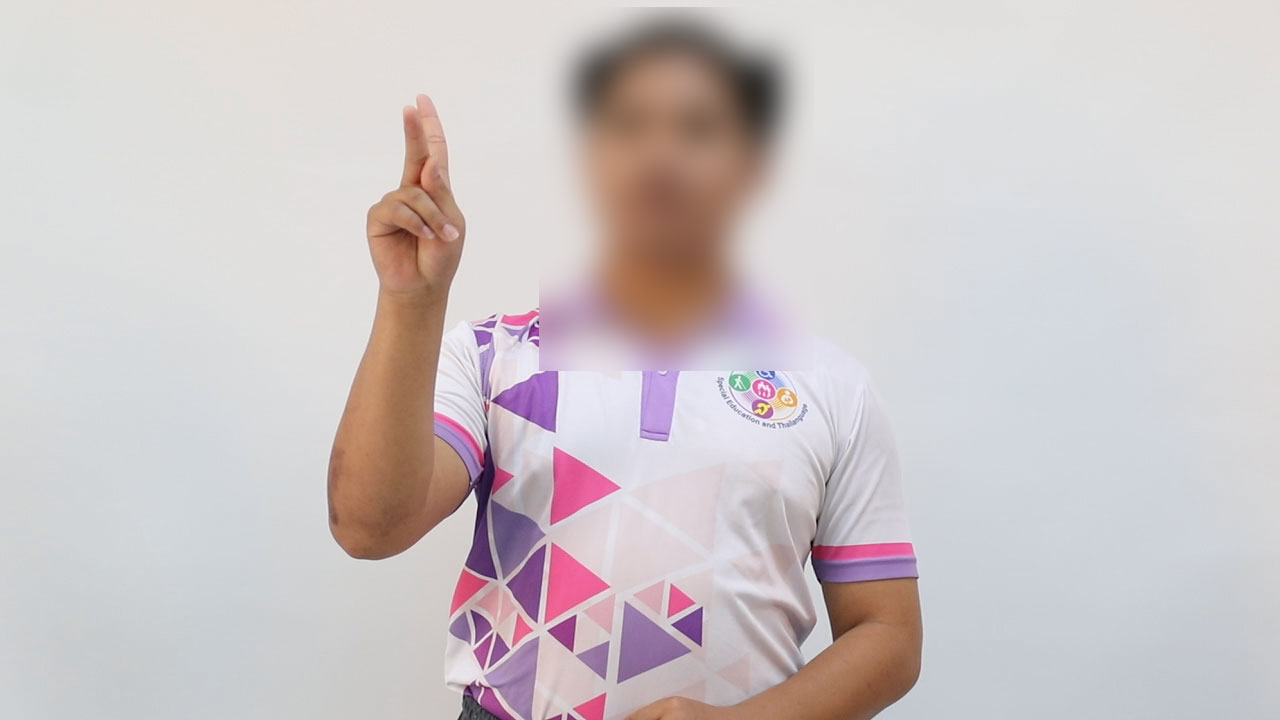ko: (344, 86, 481, 297)
